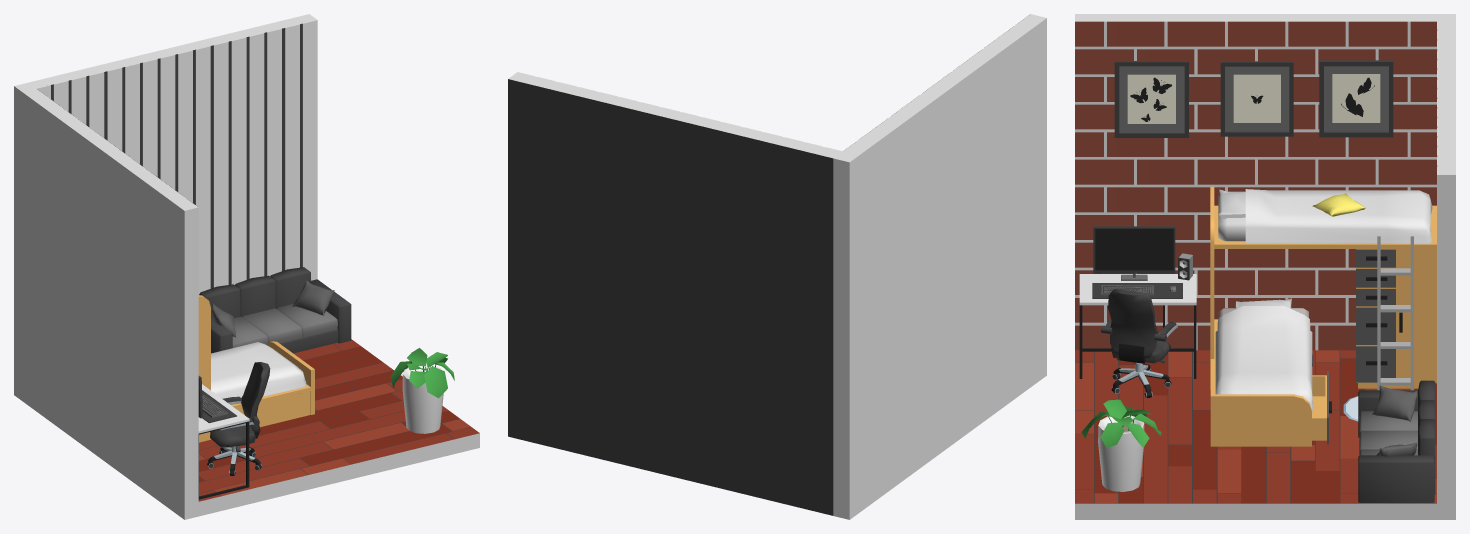
Rendered from room_19.glb.
3 renders of one model, left to right at view 1: azimuth 30°, elevation 25°; view 2: azimuth 150°, elevation 25°; view 3: azimuth 270°, elevation 25°, orthographic. The views are drawn at different scales.
Visible parts, largest first — view 1: Walls_006.058, floor_001.003, Walls_011.018, sofa_006.002, Walls_011.011, bed_027.001, Walls_003.060, Walls_003.064, Walls_003.063, Walls_003.065, Walls_003.062, Walls_003.061 (+12 smaller); view 2: Walls_011.018, Walls_006.058; view 3: wall_005.001, floor_001.003, bed_006.001, bed_027.001, Walls_006.058, Walls_011.018, sofa_006.002, Walls_011.011, picture_018.002, picture_027.003, picture_048.003, office_chair_017.006 (+5 smaller).
Part boxes in pixels (box(x1,y1,x2,y2)): Walls_006.058: box(14, 82, 198, 519); floor_001.003: box(198, 339, 479, 501); Walls_011.018: box(28, 14, 316, 288); sofa_006.002: box(199, 267, 351, 353); Walls_011.011: box(198, 344, 479, 516); bed_027.001: box(211, 341, 314, 427); Walls_003.060: box(302, 20, 317, 280); Walls_003.064: box(231, 37, 246, 284); Walls_003.063: box(249, 33, 264, 278); Walls_003.065: box(213, 41, 228, 287); Walls_003.062: box(267, 28, 281, 276); Walls_003.061: box(285, 24, 299, 269); Walls_011.018: box(508, 72, 842, 515); Walls_006.058: box(833, 14, 1046, 519); wall_005.001: box(1075, 21, 1436, 350); floor_001.003: box(1075, 350, 1436, 503); bed_006.001: box(1210, 186, 1436, 390); bed_027.001: box(1210, 298, 1331, 446); Walls_006.058: box(1075, 14, 1455, 350); Walls_011.018: box(1437, 21, 1455, 519); sofa_006.002: box(1358, 380, 1435, 502); Walls_011.011: box(1075, 350, 1437, 519); picture_018.002: box(1319, 60, 1393, 137); picture_027.003: box(1114, 61, 1188, 137); picture_048.003: box(1220, 61, 1293, 136); office_chair_017.006: box(1101, 289, 1177, 398).
Size of the model in its own units: 4.2 by 4.2 by 4.2.
Materials: 1 (1 with a texture image).
